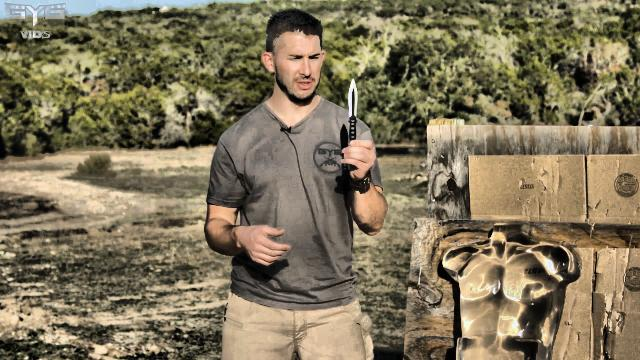knife: (342, 72, 372, 174)
